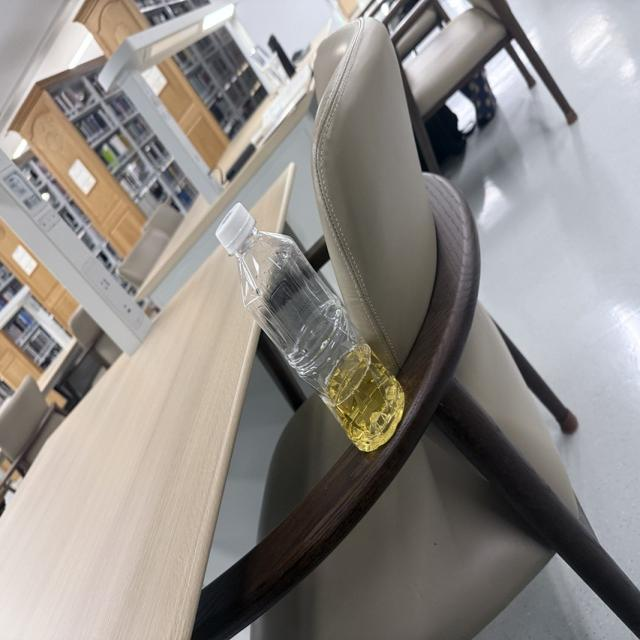low: (216, 204, 404, 451)
